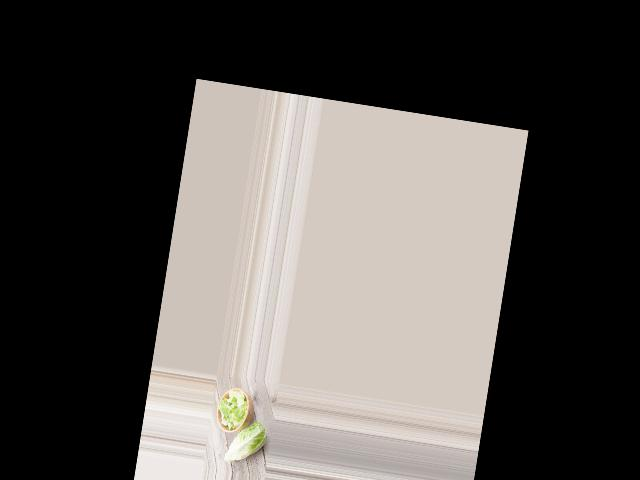lettuce: (223, 418, 269, 465)
